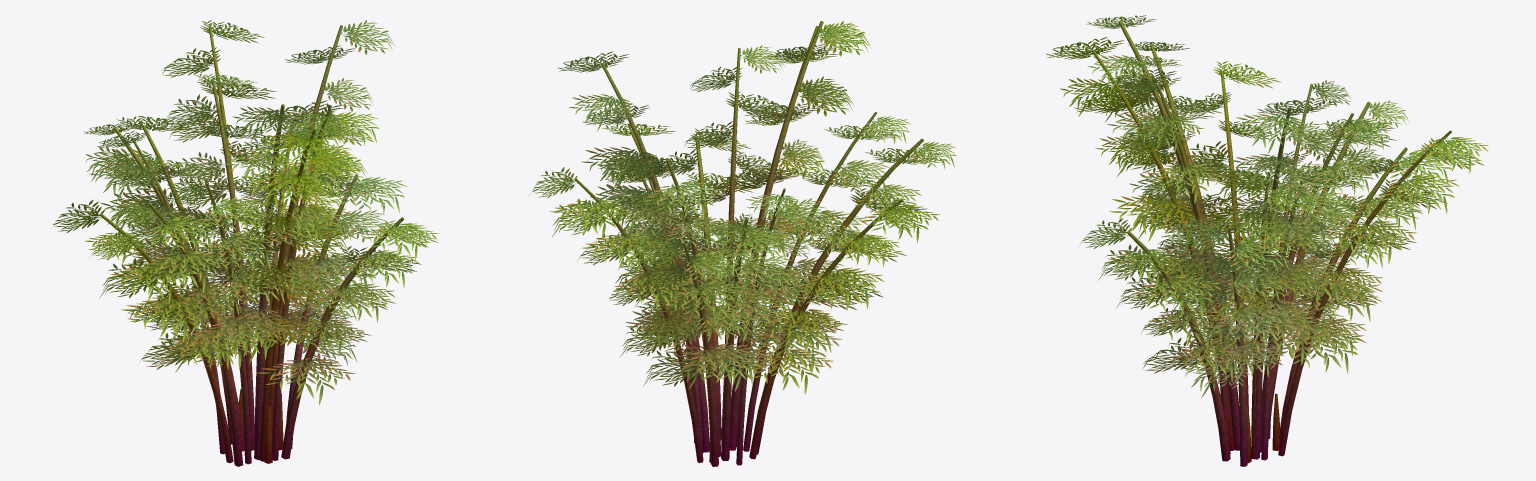
The model's file is bambu.glb.
3 renders of one model, left to right at view 1: azimuth 30°, elevation 25°; view 2: azimuth 150°, elevation 25°; view 3: azimuth 270°, elevation 25°, orthographic. The views are drawn at different scales.
Visible parts, largest first — view 1: bambu; view 2: bambu; view 3: bambu.
Part boxes in pixels (x1,y1,x2,y2): bambu: (53, 20, 439, 466); bambu: (528, 21, 956, 466); bambu: (1045, 15, 1488, 466).
Bounding box in the file's own units: 7.69 × 7.04 × 7.86.
2 materials, 2 textured.
